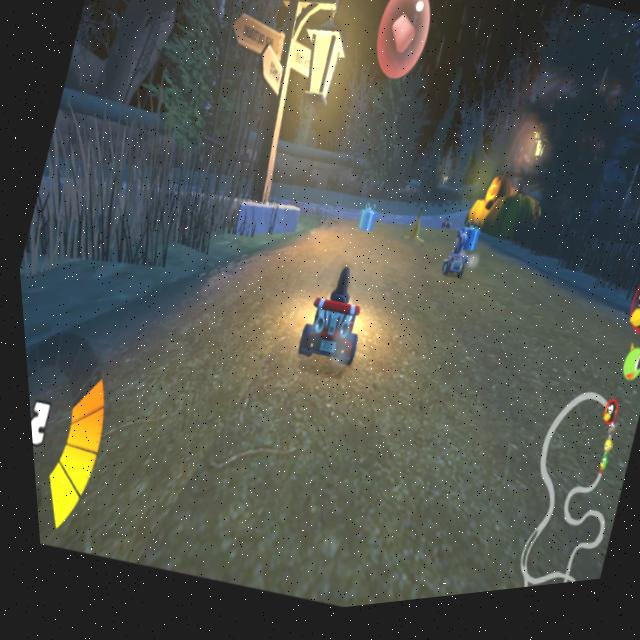bonus: (349, 206, 382, 247)
enemy_kart: (431, 240, 470, 295), (435, 220, 454, 242)
obstacle: (394, 215, 429, 263)
player_kart: (281, 266, 382, 387)
